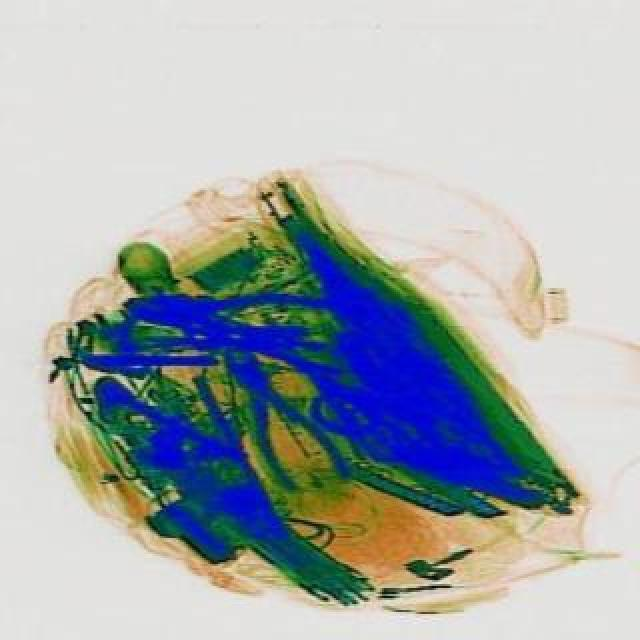wrench: (120, 266, 360, 378), (204, 332, 360, 504)
